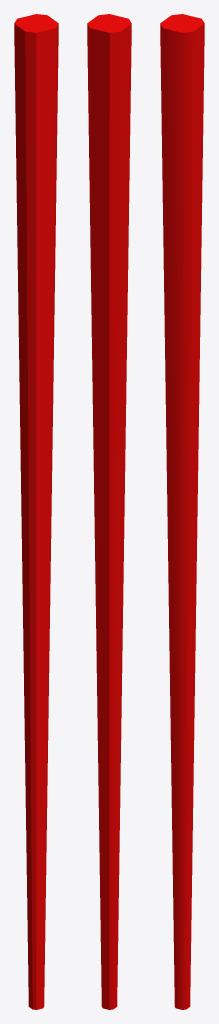
Rendered from SM_chopstickred.FBX.
3 views of the same model, side by side, from view 1: azimuth 30°, elevation 25°; view 2: azimuth 150°, elevation 25°; view 3: azimuth 330°, elevation 25° (orthographic).
Visible parts, largest first — view 1: chopstick02; view 2: chopstick02; view 3: chopstick02.
Boxes of the visible parts, bbox=[...] form: chopstick02: bbox=[14, 14, 58, 1009]; chopstick02: bbox=[87, 14, 131, 1009]; chopstick02: bbox=[160, 14, 204, 1009].
Size of the model in its own units: 2.94 by 82.36 by 2.94.
